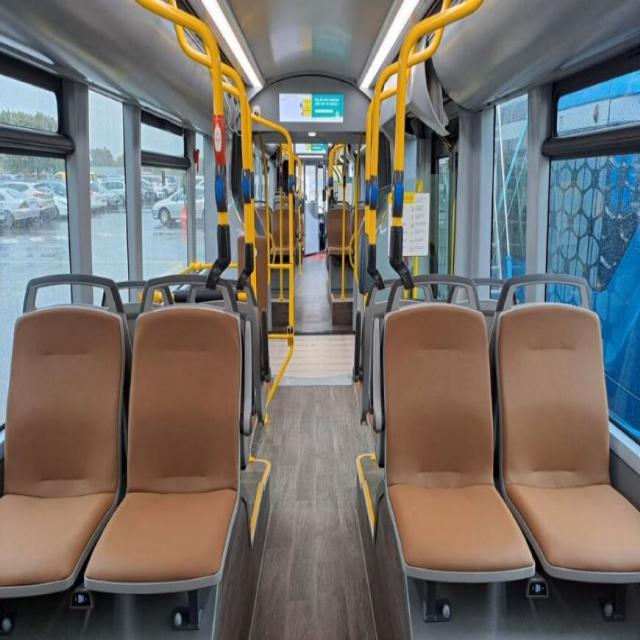empty-seat-frontal: (381, 274, 537, 596), (86, 275, 244, 592), (493, 272, 639, 588), (0, 271, 128, 602)
